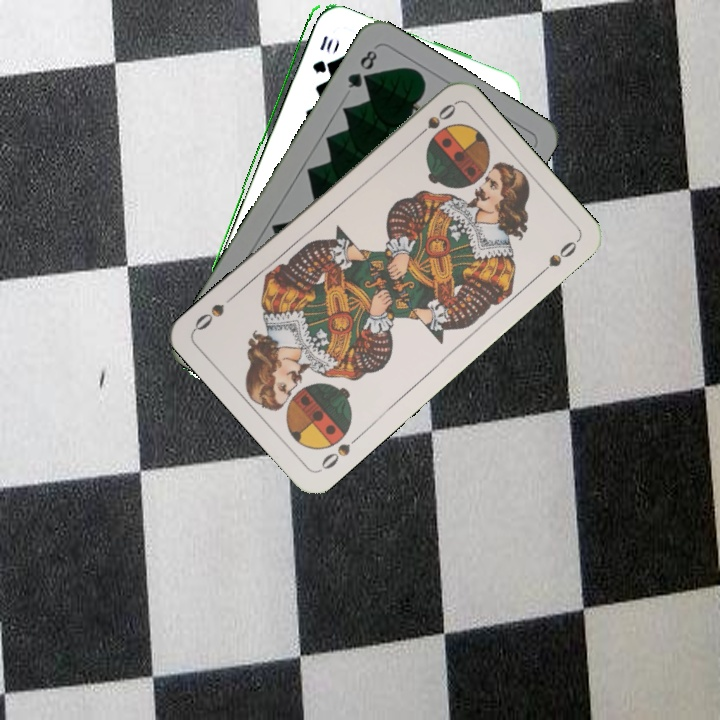G10: (308, 31, 336, 76)
G8: (343, 46, 380, 91)
SO: (409, 99, 459, 143), (316, 430, 364, 474)
